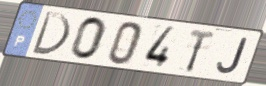0: (68, 17, 112, 61), (106, 20, 143, 66)
4: (141, 24, 179, 71)
D: (29, 10, 72, 58)
J: (214, 37, 249, 76)
T: (184, 28, 218, 74)
